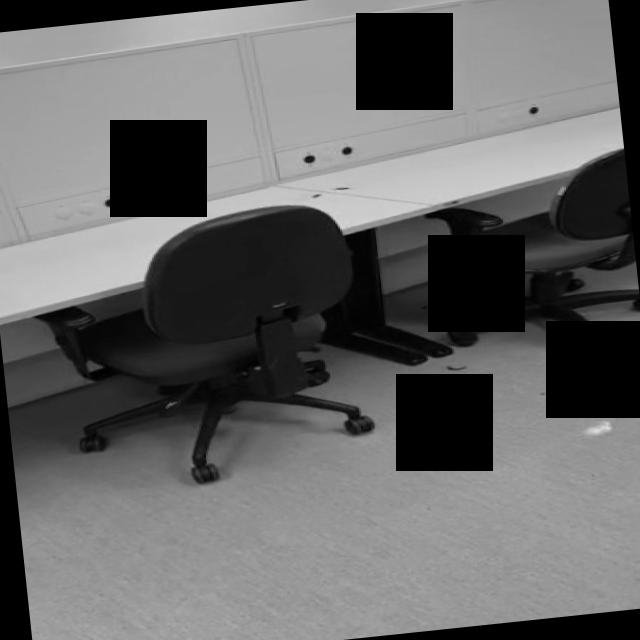cadeira-azul: (24, 197, 380, 498)
